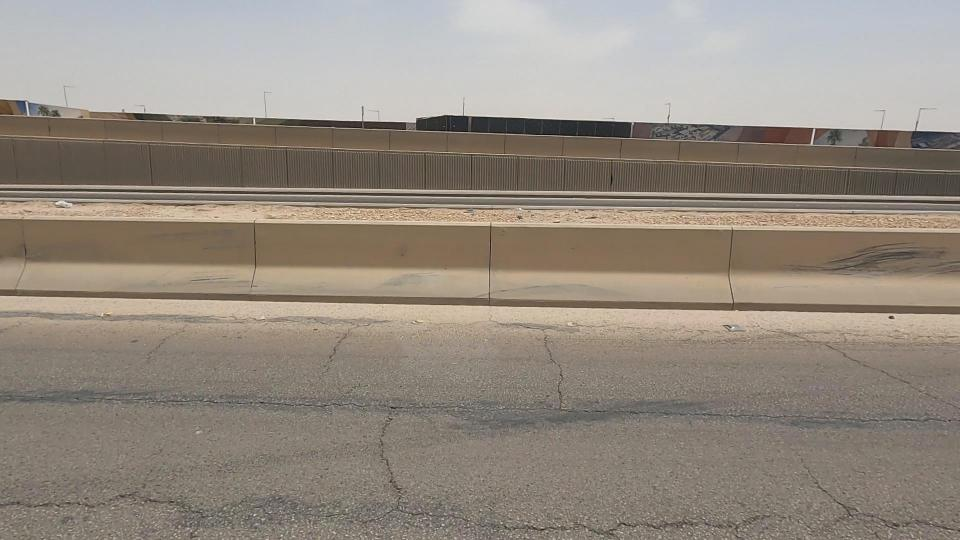GARBAGE: (21, 183, 109, 227)
